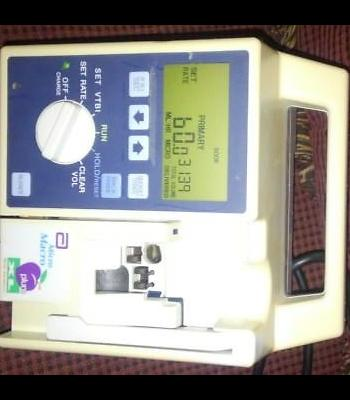plumxl1: (2, 43, 341, 367)
